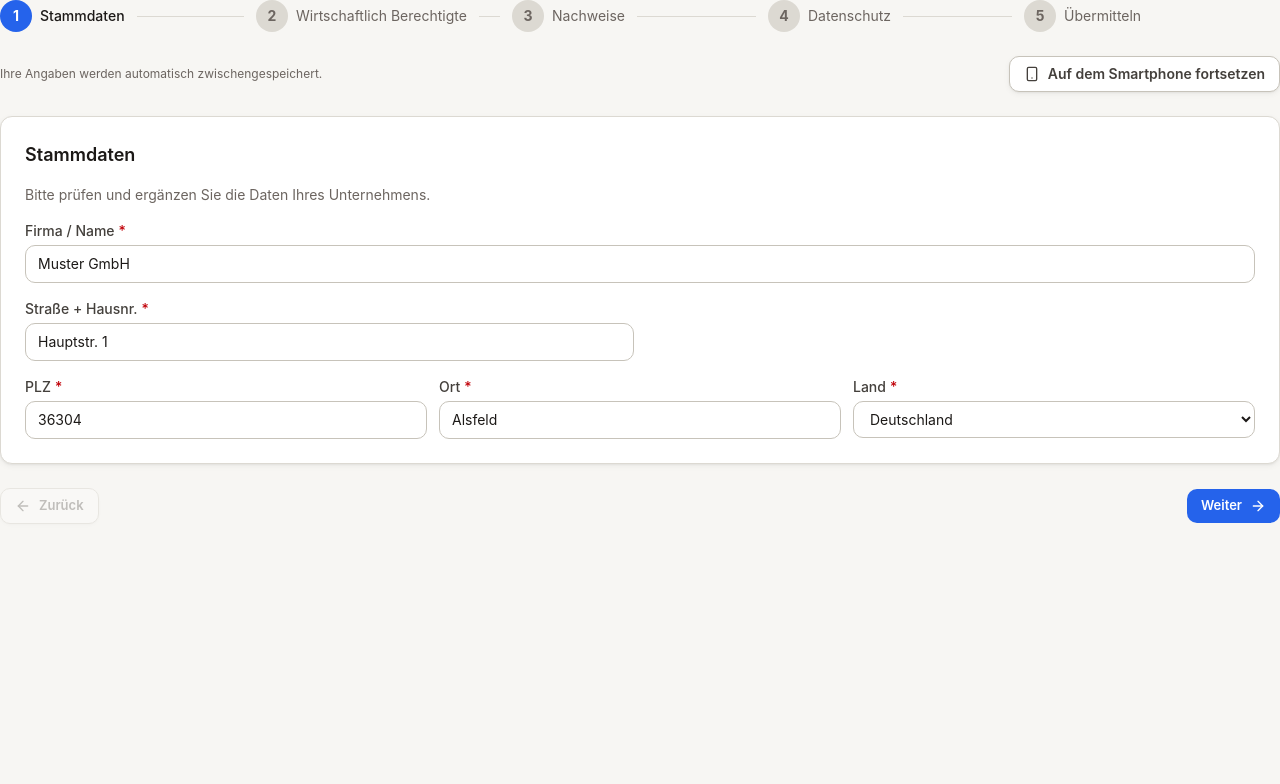
Test: GwG-Onboarding – Länder als Auswahl › zeigt eine ältere Freitextangabe weiter an, statt sie still zu verwerfen
Click the button "Weiter" at (1234, 506), box [1187, 489, 1279, 522]
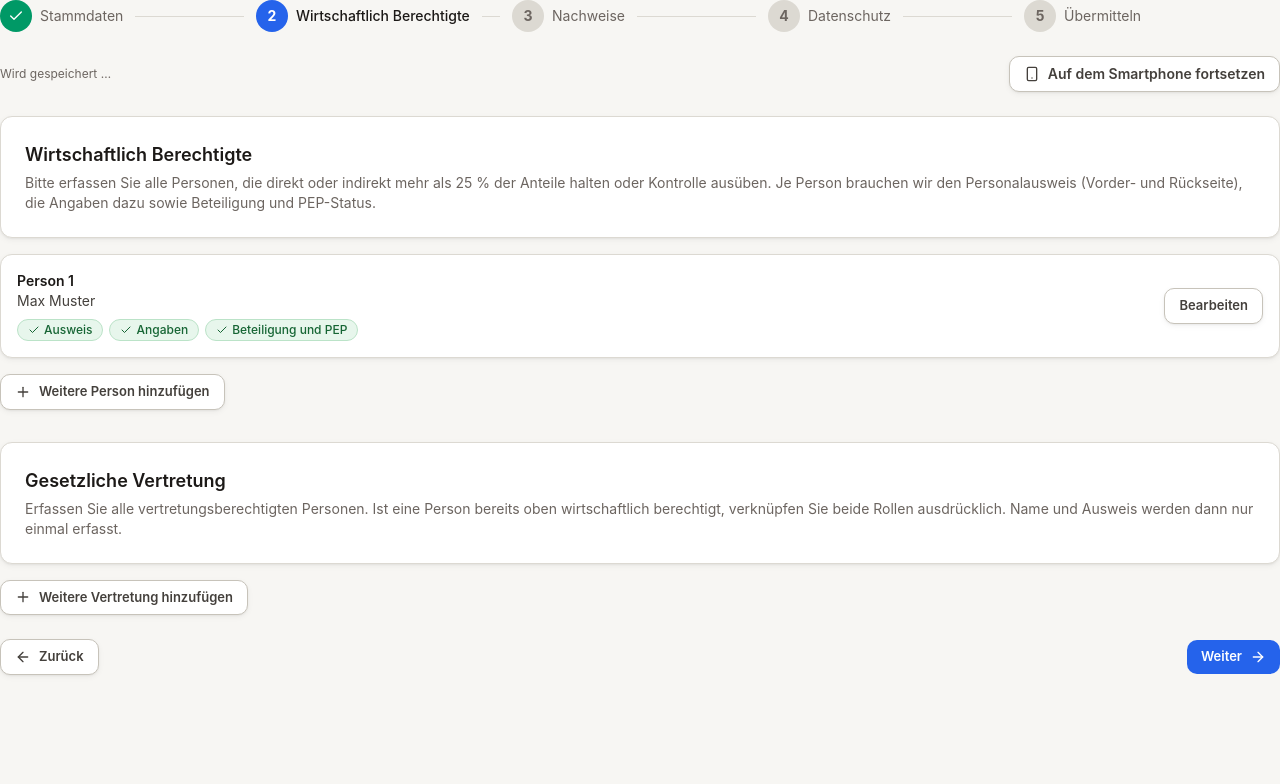
Click the button "Bearbeiten" at (1214, 306), box [1164, 288, 1263, 324]
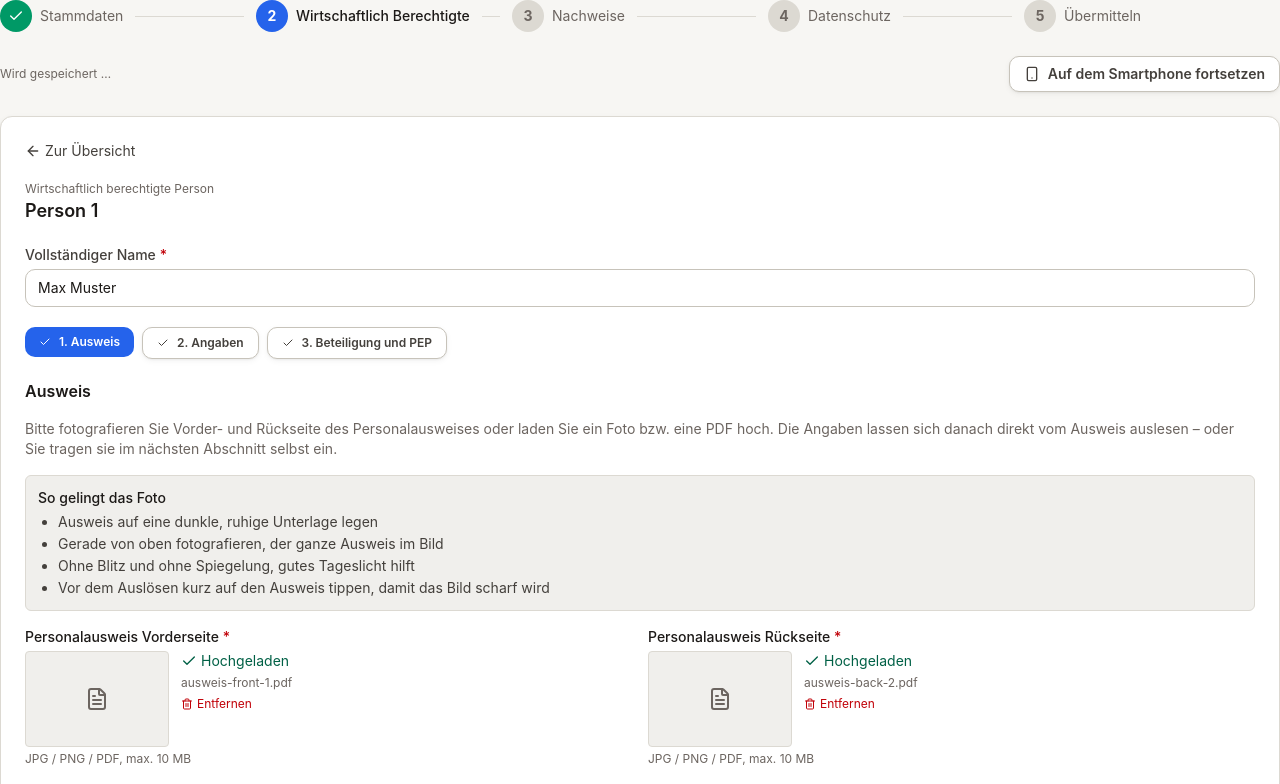
Click the button "2. Angaben" at (200, 343), box [142, 327, 259, 359]
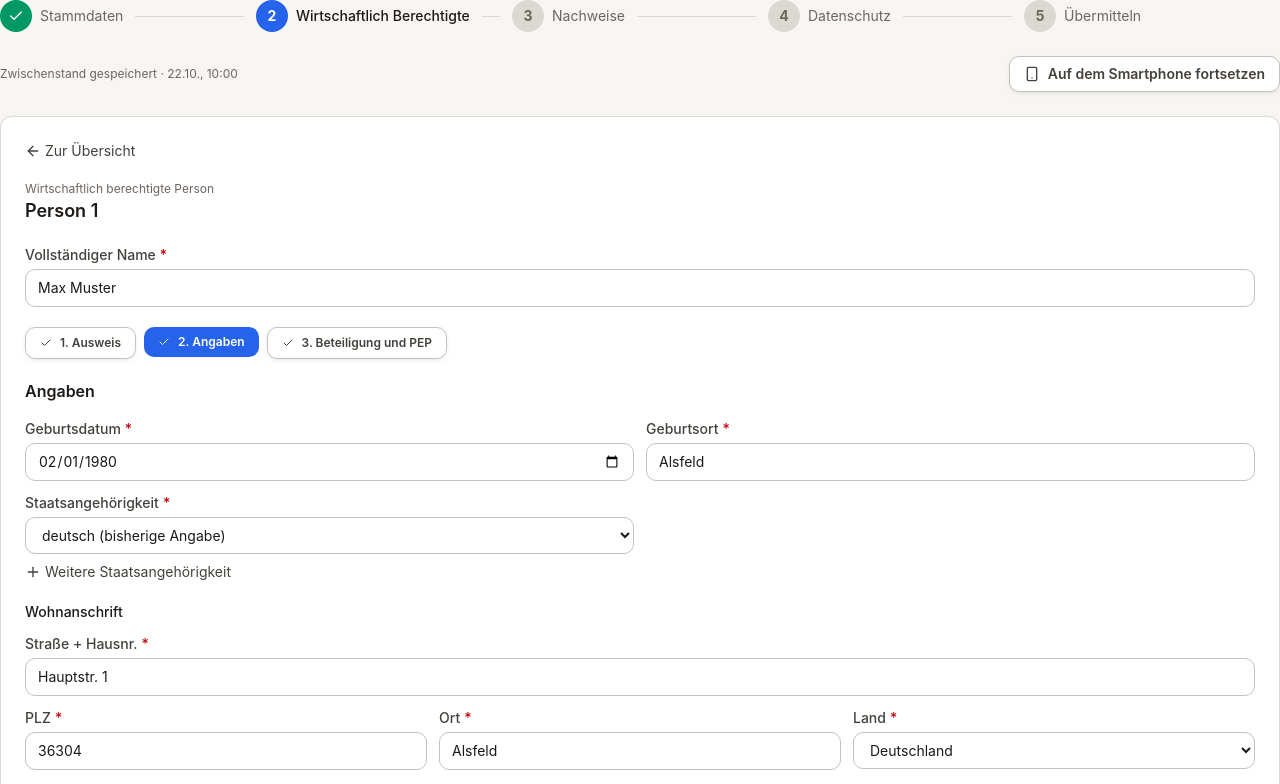
Result: the dropdown labelled "Staatsangehörigkeit*" shows "deutsch (bisherige Angabe)" at [25, 517, 634, 554]
